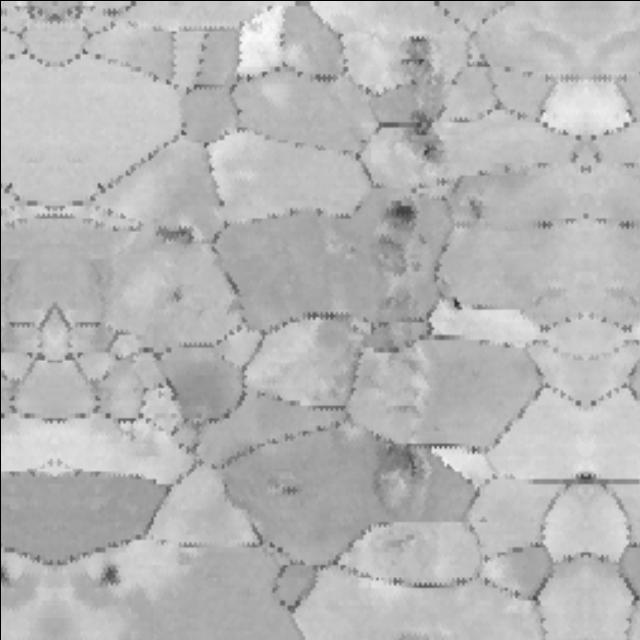good_void: (365, 438, 444, 503), (403, 100, 449, 166), (400, 29, 441, 92), (373, 228, 420, 273), (376, 194, 425, 231), (153, 215, 196, 246), (94, 559, 129, 586), (159, 280, 188, 309), (275, 480, 309, 500), (464, 194, 487, 222), (0, 559, 16, 586), (452, 290, 467, 316)
